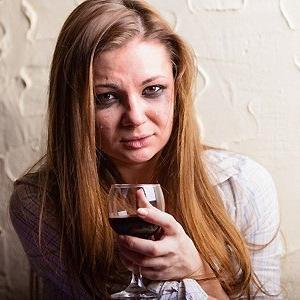Drunk: (93, 54, 175, 159)
